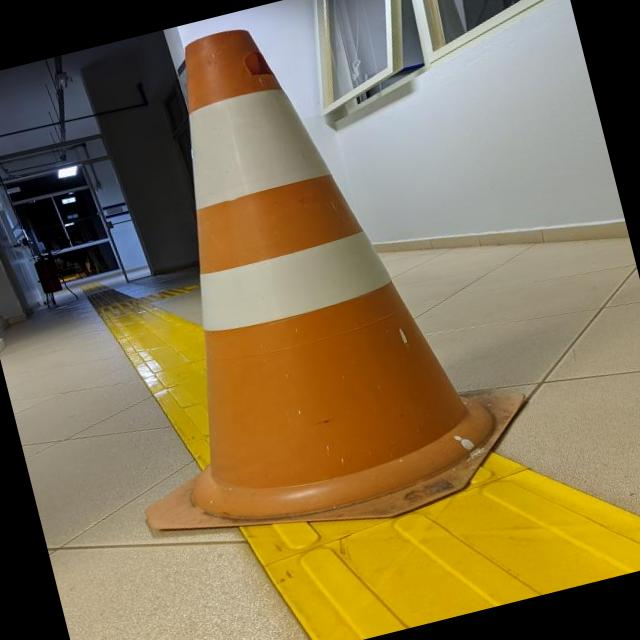Cone: (28, 0, 559, 582)
